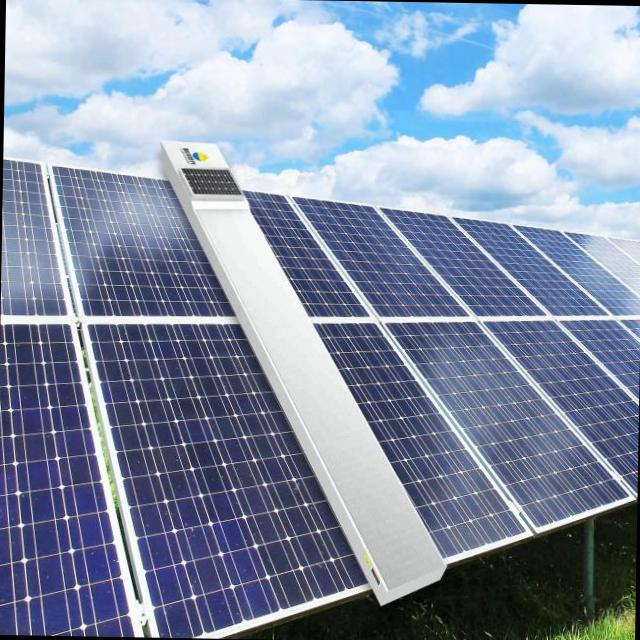no faulty: (88, 316, 367, 637), (402, 221, 640, 484), (388, 313, 625, 532), (325, 325, 528, 551), (3, 327, 131, 637), (54, 170, 243, 317), (295, 197, 477, 321), (244, 192, 367, 318), (0, 163, 65, 318)
